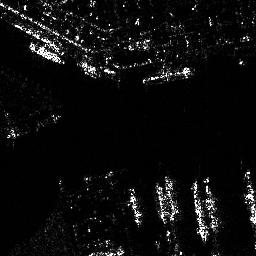ship: (188, 179, 210, 242), (142, 67, 197, 84), (28, 40, 64, 64), (162, 173, 179, 217), (155, 182, 169, 224), (128, 187, 142, 227)
